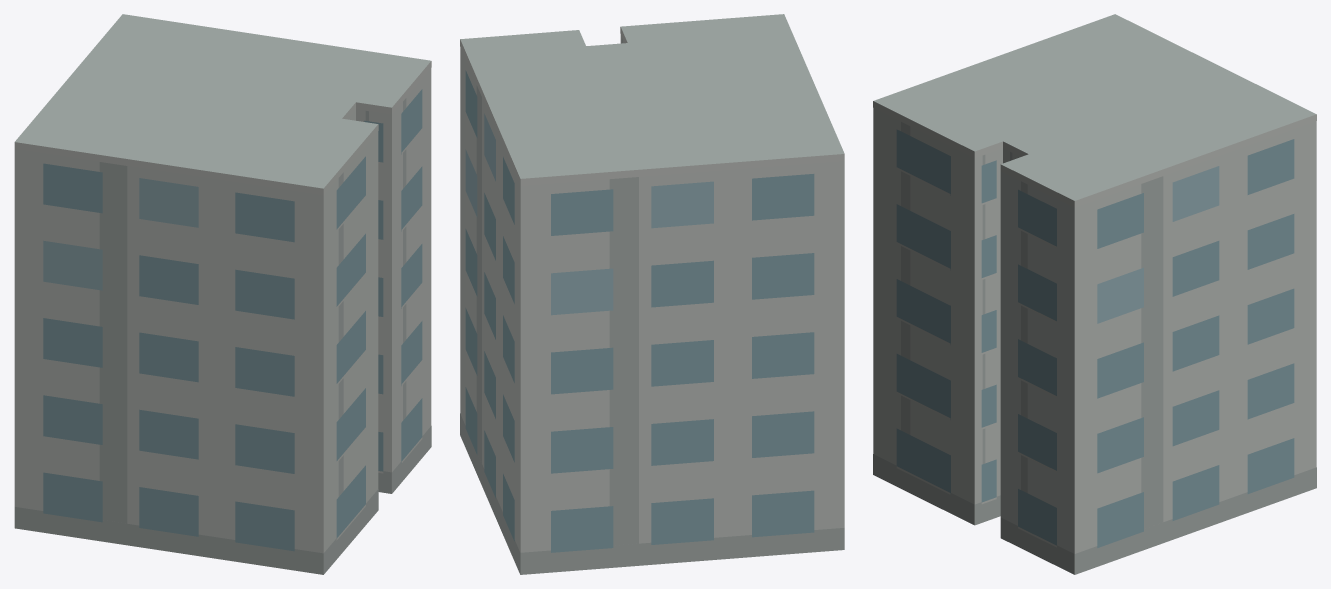
The model's file is residential-c8c3a47d-d53a-403d-9a17-788fd3dd69d6.glb.
3 renders of one model, left to right at view 1: azimuth 30°, elevation 25°; view 2: azimuth 150°, elevation 25°; view 3: azimuth 270°, elevation 25°, orthographic. The views are drawn at different scales.
Parts seen in each view (by area): view 1: residential-c8c3a47d-d53a-403d-9a17-788fd3dd69d6.tmp; view 2: residential-c8c3a47d-d53a-403d-9a17-788fd3dd69d6.tmp; view 3: residential-c8c3a47d-d53a-403d-9a17-788fd3dd69d6.tmp.
Part boxes in pixels (x1,y1,x2,y2): residential-c8c3a47d-d53a-403d-9a17-788fd3dd69d6.tmp: (14,14,431,574); residential-c8c3a47d-d53a-403d-9a17-788fd3dd69d6.tmp: (460,14,844,574); residential-c8c3a47d-d53a-403d-9a17-788fd3dd69d6.tmp: (873,14,1316,574).
Bounding box in the file's own units: 14.38 × 13.4 × 14.41.
